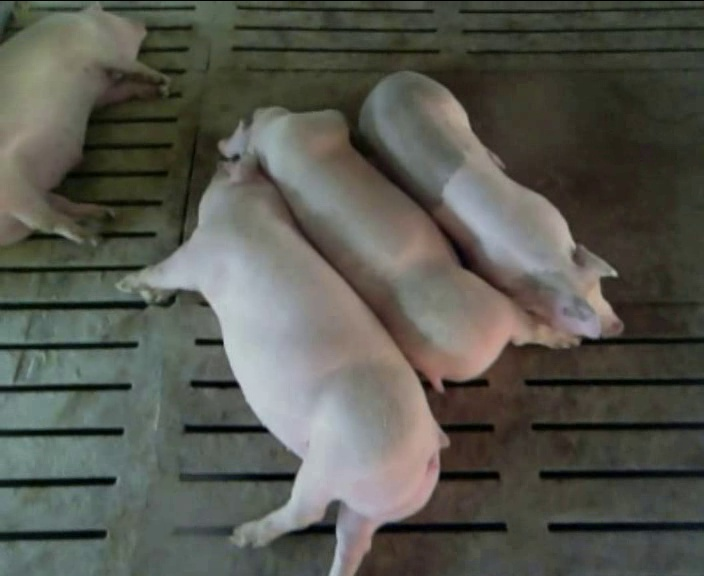pig: (120, 155, 446, 574), (217, 109, 580, 389), (360, 71, 622, 337), (0, 6, 168, 244)
